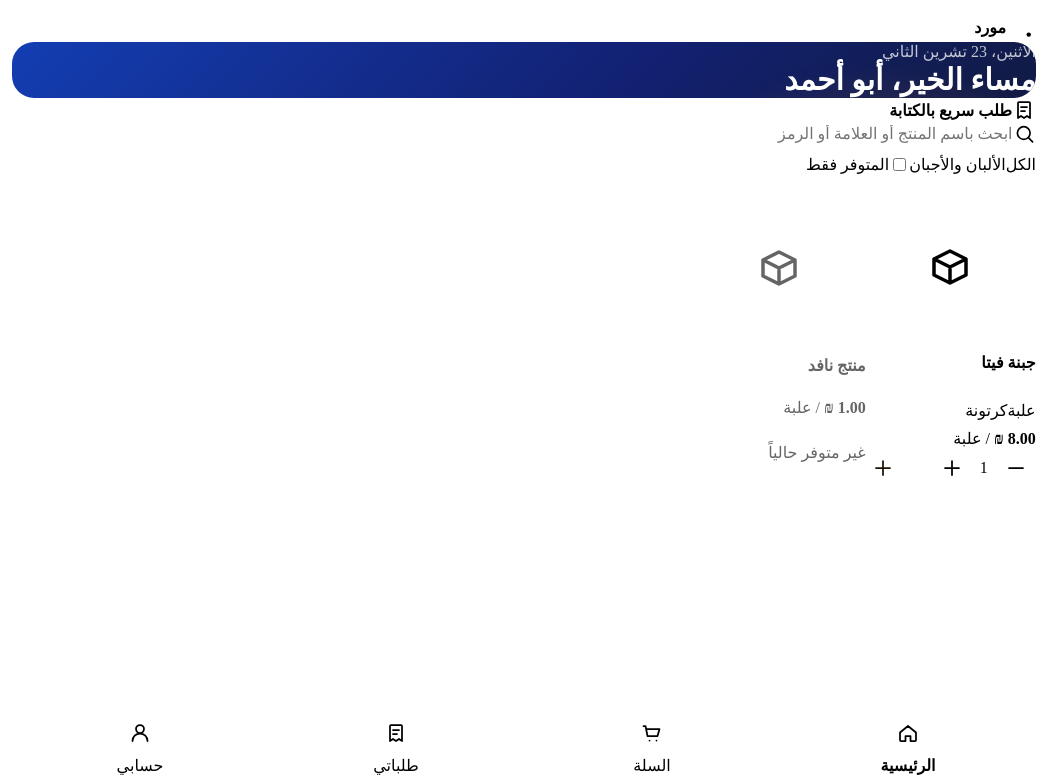
الواجهة › إضافة للسلة ثم إرسال الطلب بمفتاح منع تكرار، ومعالجة تغيّر السعر
The image size is (1048, 780).
Click the button named "أضف جبنة فيتا إلى السلة" at [883, 468], box [865, 455, 901, 481]
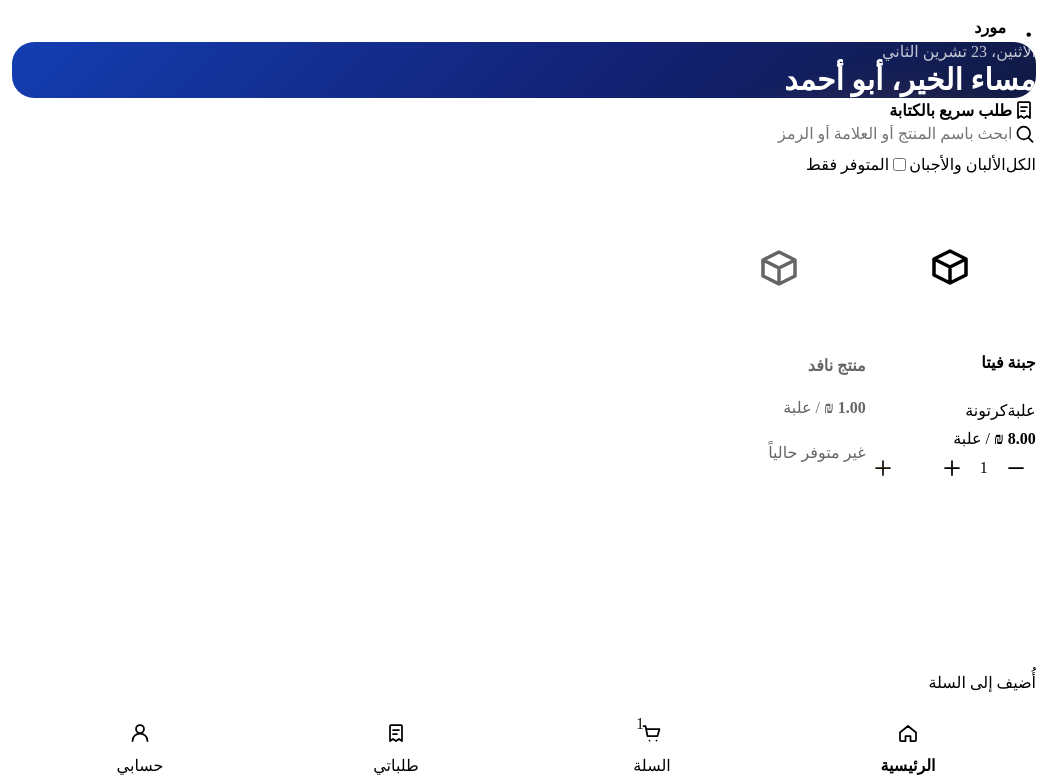
Now the 2nd text "1" is shown, box [636, 715, 644, 732]
Click the button "1 السلة" at [652, 748], box [524, 716, 780, 779]
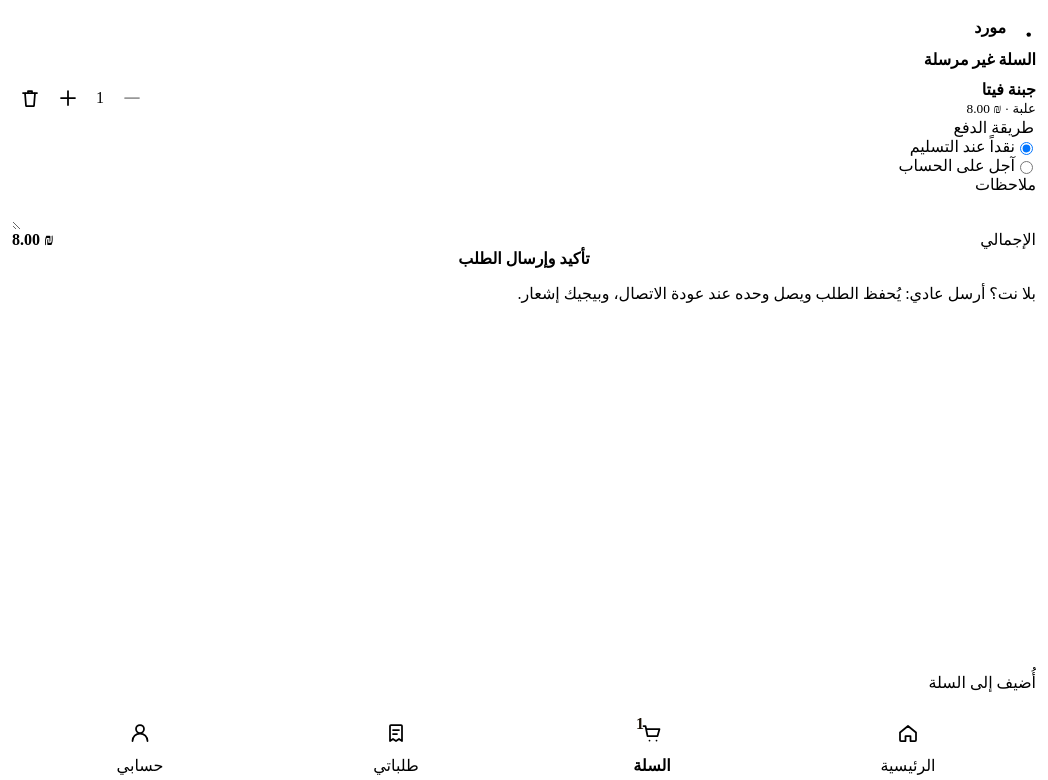
Now the text "غير مرسلة" is shown, box [924, 51, 994, 68]
Click the button "تأكيد وإرسال الطلب" at [524, 258], box [12, 249, 1036, 268]
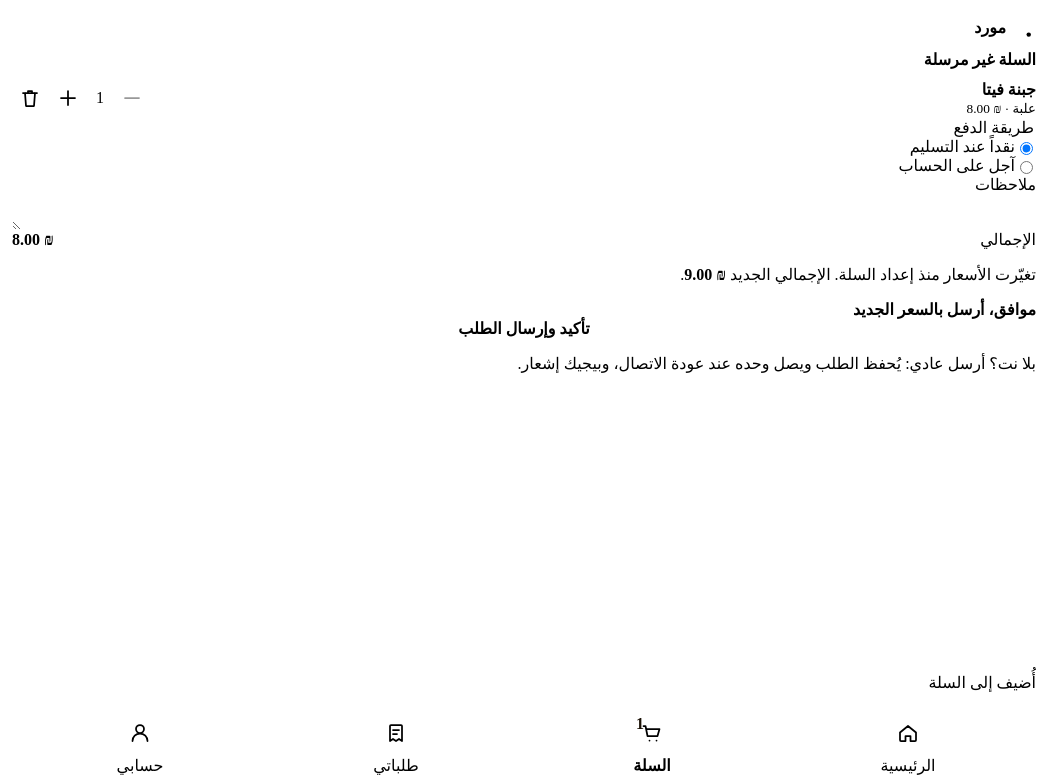
Now the text "تغيّرت الأسعار منذ إعداد السلة. الإجمالي الجديد 9.00 ₪." is shown, box [680, 266, 1036, 283]
Click the button "موافق، أرسل بالسعر الجديد" at [944, 310], box [853, 300, 1036, 319]
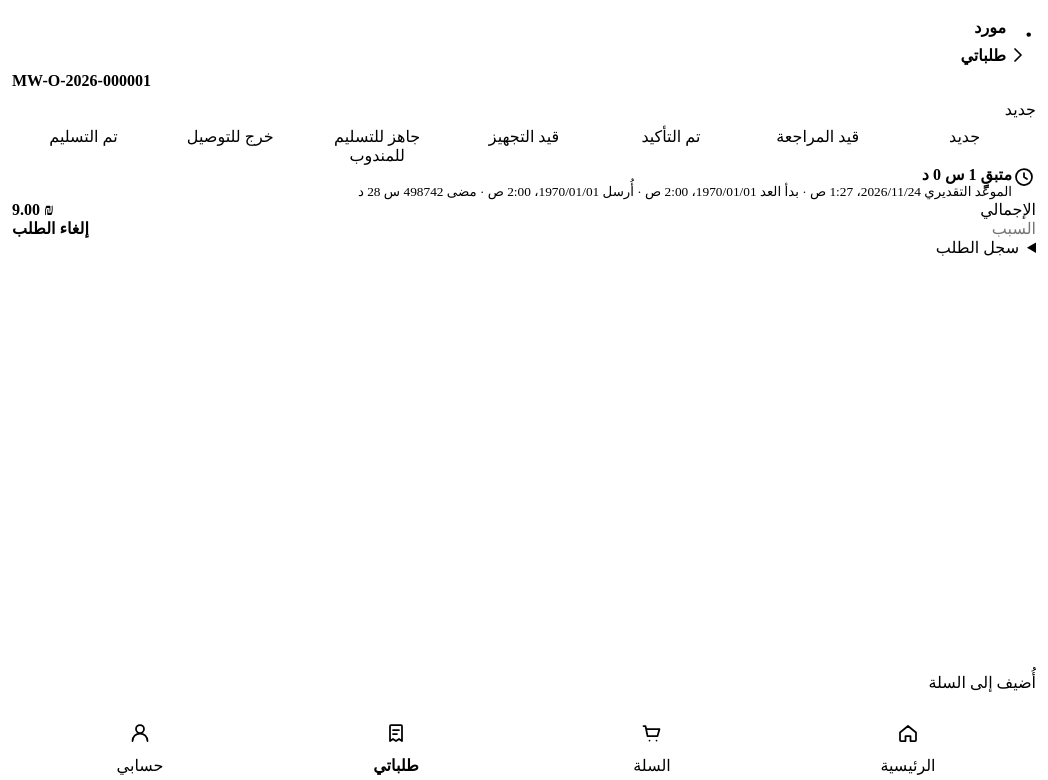
Now the heading "MW-O-2026-000001" is shown, box [12, 72, 151, 89]
Now the text "متبقٍ 1 س 0 د" is shown, box [922, 166, 1012, 183]
